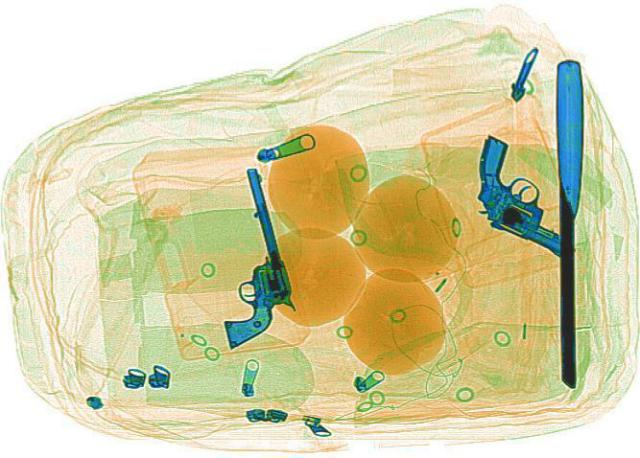Gun: (420, 130, 628, 258), (185, 165, 302, 346)
Knife: (554, 58, 584, 386)
